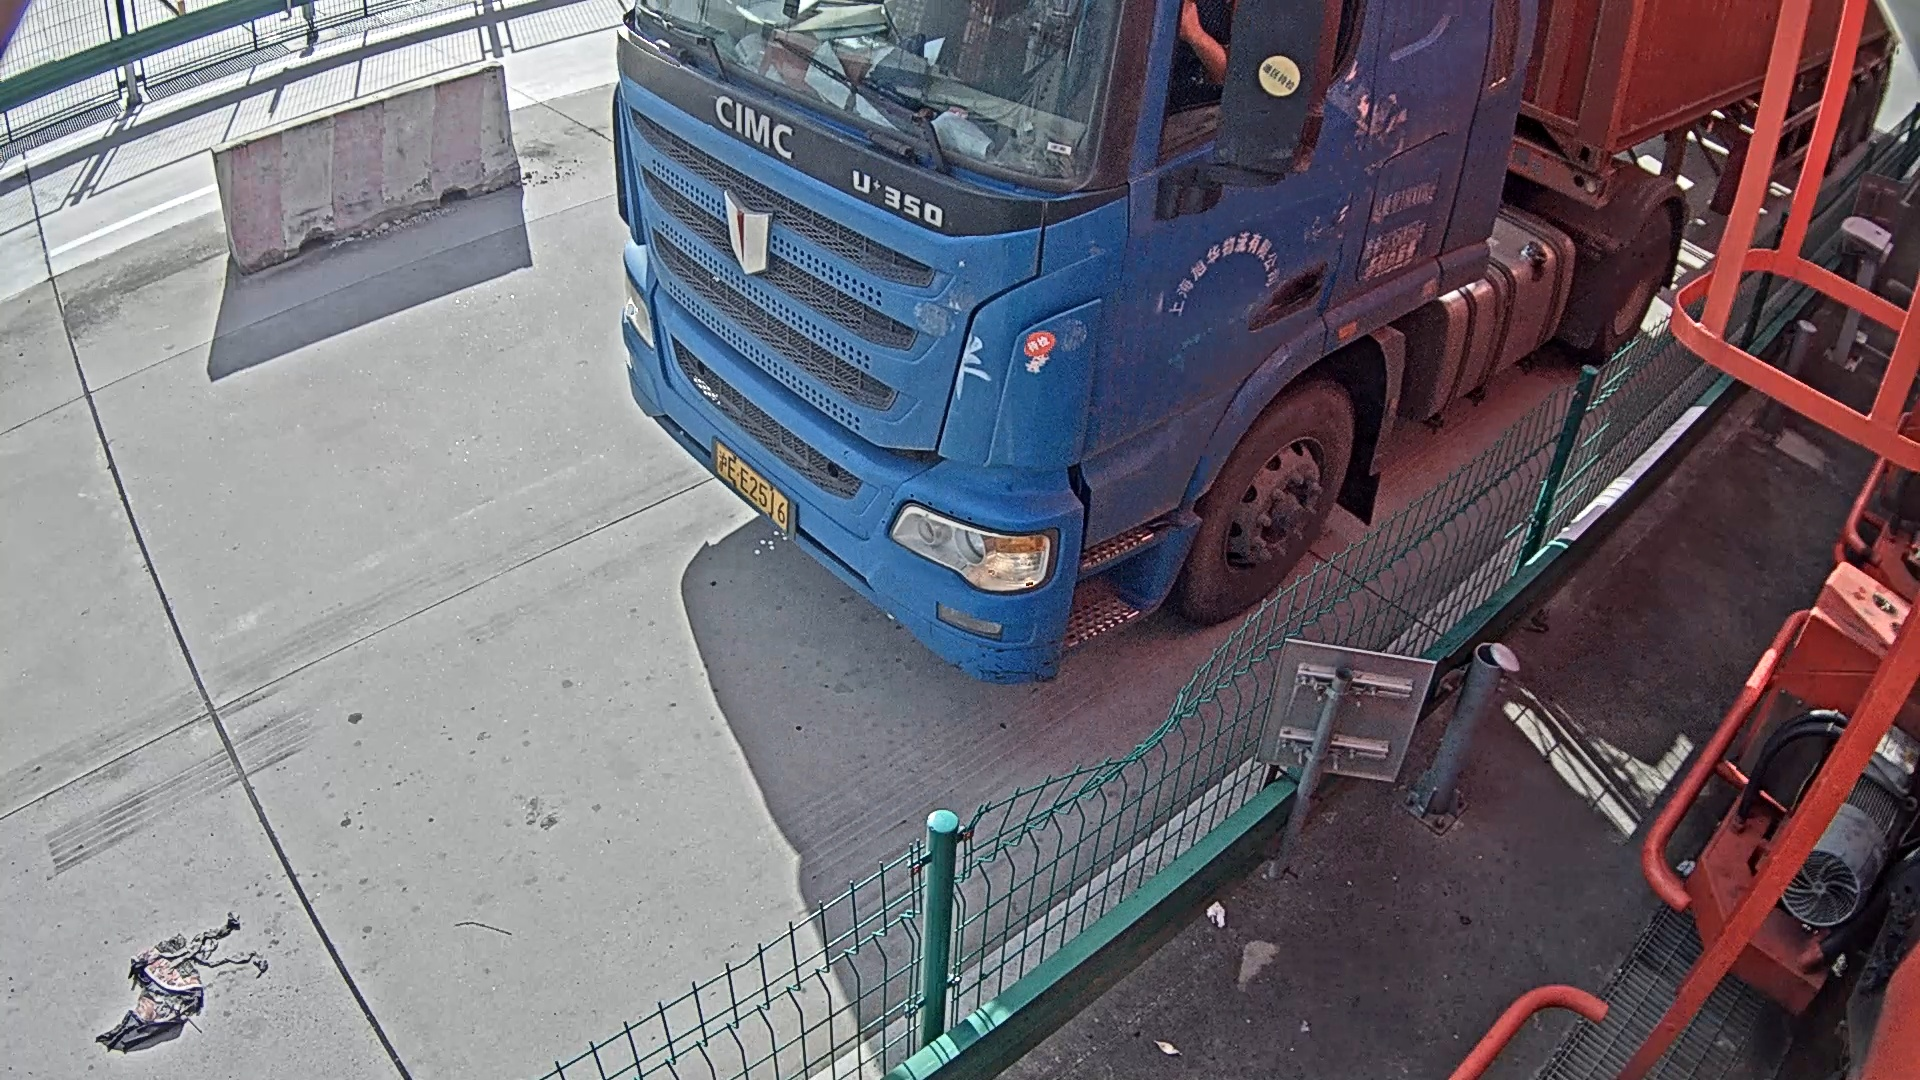head: (613, 3, 1513, 662)
plate: (712, 437, 791, 534)
